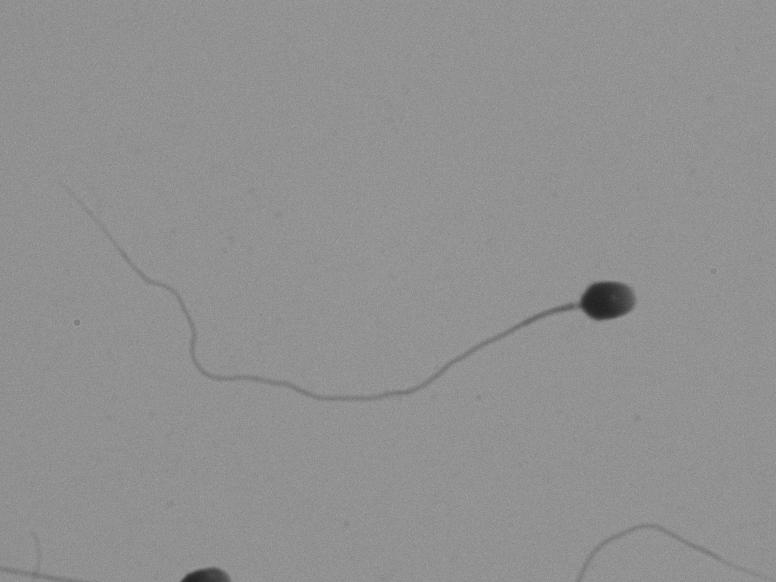Normal: (46, 170, 707, 434)
